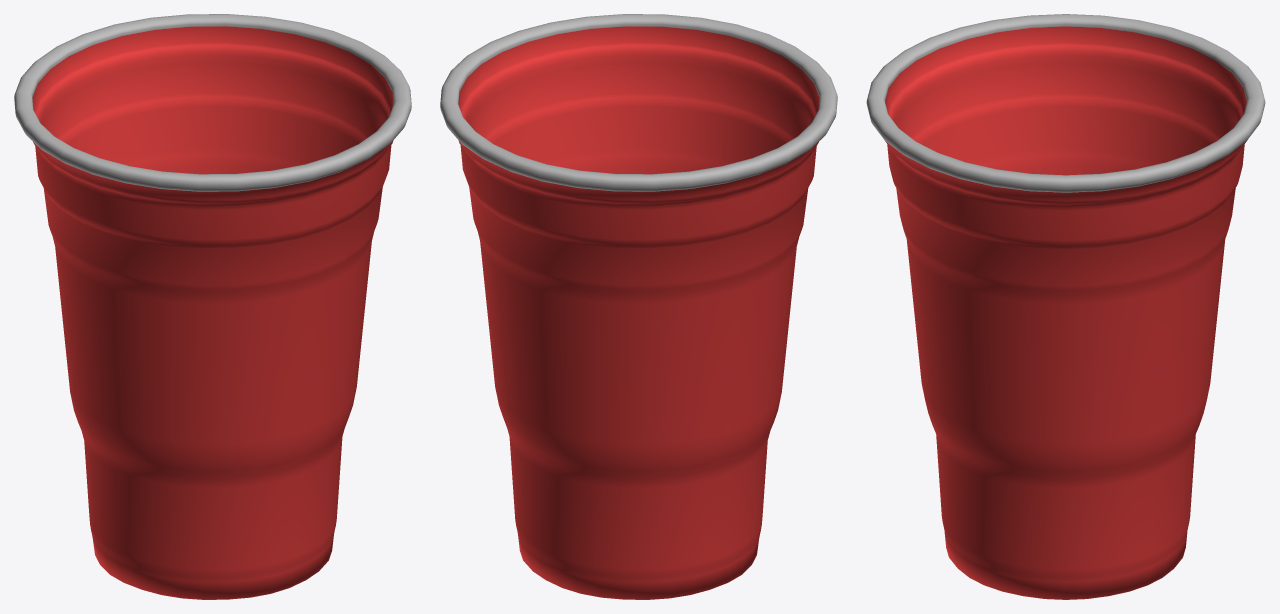
Rendered from paper-cup_3.glb.
3 views of the same model, side by side, from view 1: azimuth 30°, elevation 25°; view 2: azimuth 150°, elevation 25°; view 3: azimuth 270°, elevation 25° (orthographic).
Parts seen in each view (by area): view 1: solocup; view 2: solocup; view 3: solocup.
Boxes of the visible parts, <box> form: solocup: <box>14,14,411,599</box>; solocup: <box>440,14,837,599</box>; solocup: <box>866,14,1265,599</box>.
Size of the model in its own units: 0.0896 by 0.1128 by 0.0895.
Materials: 1 (1 with a texture image).
